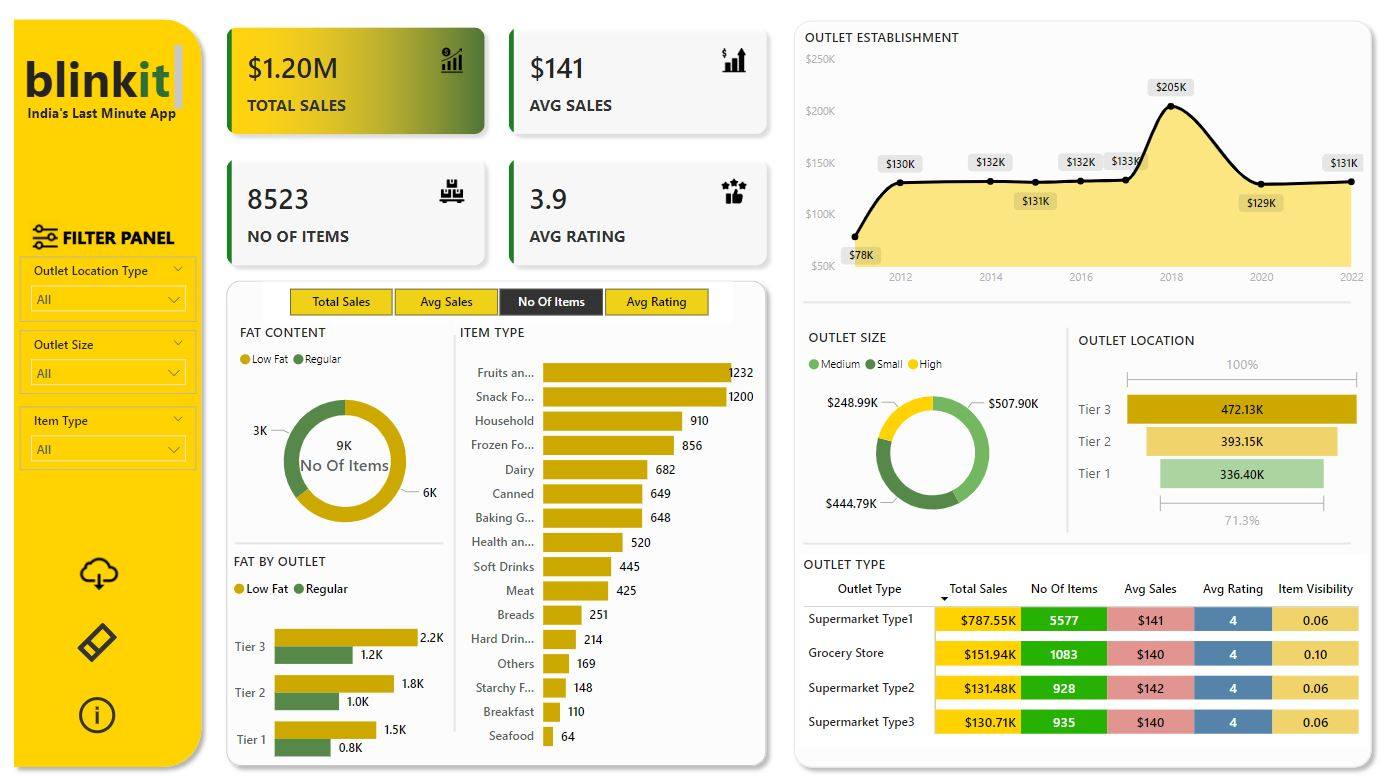

The page's visual inventory and layout, read from the dashboard file:
{"tool":"powerbi","page":{"name":"Home","canvas":[1400,800],"ordinal":0},"visuals":[{"type":"shape","box":[13.5,25.5,204.1,760],"z":0},{"type":"textbox","box":[24,55.5,171.1,73.5],"z":1000},{"type":"textbox","box":[31.5,114.1,163.6,28.5],"z":2000},{"type":"cardVisual","fields":{"Data":["BlinkIT Grocery Data.Total Sales","BlinkIT Grocery Data.Avg Sales","BlinkIT Grocery Data.No Of Items","BlinkIT Grocery Data.Avg Rating"]},"box":[217.6,25.5,570.3,270.2],"z":3000},{"type":"shape","box":[225.1,285.2,553.8,499.8],"z":4000},{"type":"donutChart","title":"FAT CONTENT","fields":{"Y":["BlinkIT Grocery Data.No Of Items"],"Category":["BlinkIT Grocery Data.Item Fat Content"]},"box":[241.6,336.2,219.1,229.6],"z":5000},{"type":"slicer","fields":{"Values":["Metrics.Metrics"]},"box":[270.2,295.7,465.3,40.5],"z":6000},{"type":"cardVisual","fields":{"Data":["BlinkIT Grocery Data.No Of Items"]},"box":[289.7,432.2,123.1,66],"z":7000},{"type":"clusteredBarChart","title":"FAT BY OUTLET","fields":{"Y":["BlinkIT Grocery Data.No Of Items"],"Category":["BlinkIT Grocery Data.Outlet Location Type"],"Series":["BlinkIT Grocery Data.Item Fat Content"]},"box":[235.3,563.4,218.8,228.9],"z":8000},{"type":"shape","box":[241.6,544.8,207.1,21],"z":9000},{"type":"shape","box":[447.3,348.2,27,393.2],"z":10000},{"type":"barChart","title":"ITEM TYPE","fields":{"Y":["BlinkIT Grocery Data.No Of Items"],"Category":["BlinkIT Grocery Data.Item Type"]},"box":[460.8,336.2,301.7,435.3],"z":11000},{"type":"shape","box":[787.2,26.7,591.4,759.3],"z":12000},{"type":"lineChart","title":"OUTLET ESTABLISHMENT","fields":{"Category":["BlinkIT Grocery Data.Outlet Establishment Year"],"Y":["BlinkIT Grocery Data.Total Sales"]},"box":[802.5,43.2,564.7,264.5],"z":13000},{"type":"shape","box":[806.3,307.8,543.1,16.5],"z":14000},{"type":"donutChart","title":"OUTLET SIZE","fields":{"Y":["BlinkIT Grocery Data.Total Sales"],"Category":["BlinkIT Grocery Data.Outlet Size"]},"box":[806.3,340.8,256.9,203.5],"z":15000},{"type":"shape","box":[1059.4,340.8,17.8,203.5],"z":16000},{"type":"funnel","title":"OUTLET LOCATION","fields":{"Y":["Sum(BlinkIT Grocery Data.Sales)"],"Category":["BlinkIT Grocery Data.Outlet Location Type"]},"box":[1074.7,343.4,291.2,203.5],"z":17000},{"type":"shape","box":[806.3,546.9,543.1,16.5],"z":18000},{"type":"pivotTable","title":"OUTLET TYPE","fields":{"Rows":["BlinkIT Grocery Data.Outlet Type"],"Values":["BlinkIT Grocery Data.Total Sales","BlinkIT Grocery Data.No Of Items","BlinkIT Grocery Data.Avg Sales","BlinkIT Grocery Data.Avg Rating","Avg(BlinkIT Grocery Data.Item Visibility)"]},"box":[801.2,566,564.7,192],"z":19000},{"type":"slicer","fields":{"Values":["BlinkIT Grocery Data.Outlet Location Type"]},"box":[28,270.9,175.5,64.9],"z":20000},{"type":"slicer","fields":{"Values":["BlinkIT Grocery Data.Outlet Size"]},"box":[28,343.4,175.5,63.6],"z":21000},{"type":"slicer","fields":{"Values":["BlinkIT Grocery Data.Item Type"]},"box":[28,419.7,175.5,63.6],"z":22000},{"type":"actionButton","box":[81.4,702,50.9,47],"z":24000},{"type":"actionButton","box":[81.4,630.8,50.9,47.1],"z":25000},{"type":"actionButton","box":[33.1,230.2,152.6,40.7],"z":26000},{"type":"actionButton","box":[81.4,555.8,50.9,53.4],"z":27000}]}

Visuals, with their boxes in screenshot pixels (x1, y1, x2, y2), scaled from the page's 1400x800 canvas onto the 1393x779 screenshot:
shape: (13, 25, 217, 765)
textbox: (24, 54, 194, 126)
textbox: (31, 111, 194, 139)
cardVisual - BlinkIT Grocery Data.Total Sales x BlinkIT Grocery Data.Avg Sales: (217, 25, 784, 288)
shape: (224, 278, 775, 764)
"FAT CONTENT" donutChart: (240, 327, 458, 551)
slicer - Metrics.Metrics: (269, 288, 732, 327)
cardVisual - BlinkIT Grocery Data.No Of Items: (288, 421, 411, 485)
"FAT BY OUTLET" clusteredBarChart: (234, 549, 452, 772)
shape: (240, 530, 446, 551)
shape: (445, 339, 472, 722)
"ITEM TYPE" barChart: (458, 327, 759, 751)
shape: (783, 26, 1372, 765)
"OUTLET ESTABLISHMENT" lineChart: (798, 42, 1360, 300)
shape: (802, 300, 1343, 316)
"OUTLET SIZE" donutChart: (802, 332, 1058, 530)
shape: (1054, 332, 1072, 530)
"OUTLET LOCATION" funnel: (1069, 334, 1359, 533)
shape: (802, 533, 1343, 549)
"OUTLET TYPE" pivotTable: (797, 551, 1359, 738)
slicer - BlinkIT Grocery Data.Outlet Location Type: (28, 264, 202, 327)
slicer - BlinkIT Grocery Data.Outlet Size: (28, 334, 202, 396)
slicer - BlinkIT Grocery Data.Item Type: (28, 409, 202, 471)
actionButton: (81, 684, 132, 729)
actionButton: (81, 614, 132, 660)
actionButton: (33, 224, 185, 264)
actionButton: (81, 541, 132, 593)
